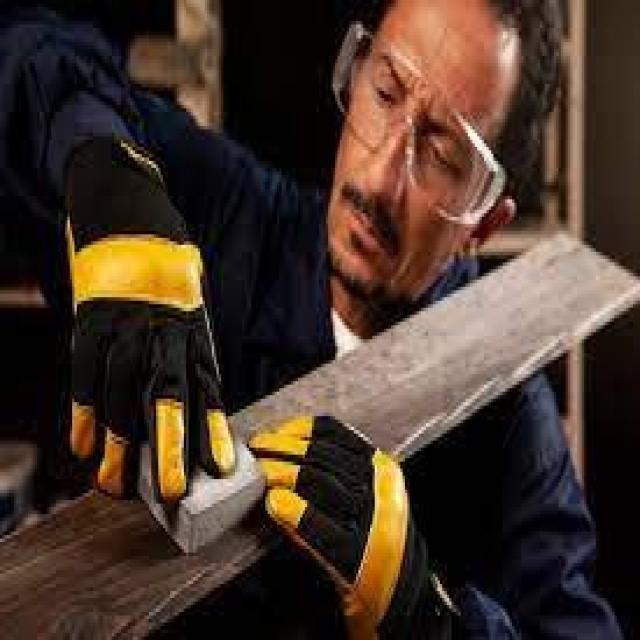Gloves: (56, 122, 242, 538), (248, 399, 432, 634)
Person: (0, 0, 619, 640)
